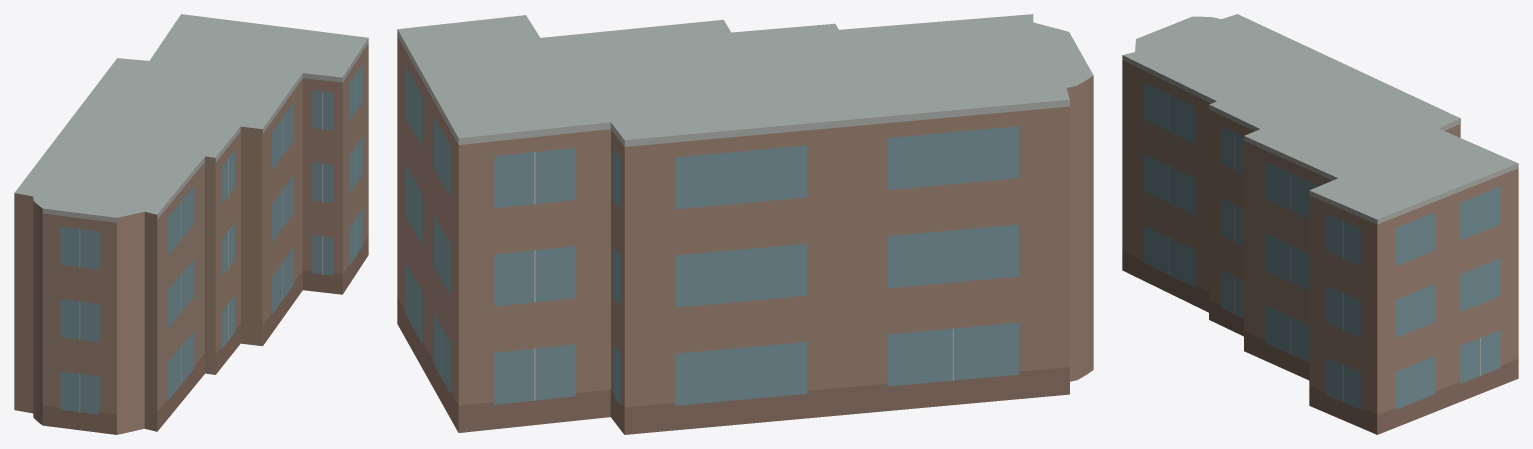
Rendered from survey-upis-33025072.glb.
The picture shows the model from 3 angles, left to right: view 1: azimuth 30°, elevation 25°; view 2: azimuth 150°, elevation 25°; view 3: azimuth 270°, elevation 25°; orthographic projection. The views are drawn at different scales.
Parts seen in each view (by area): view 1: survey-upis-33025072.tmp; view 2: survey-upis-33025072.tmp; view 3: survey-upis-33025072.tmp.
Part boxes in pixels (x1,y1,x2,y2): survey-upis-33025072.tmp: (14, 14, 368, 434); survey-upis-33025072.tmp: (397, 14, 1093, 434); survey-upis-33025072.tmp: (1122, 14, 1518, 434).
Bounding box in the file's own units: 21.72 × 10.6 × 17.68.
